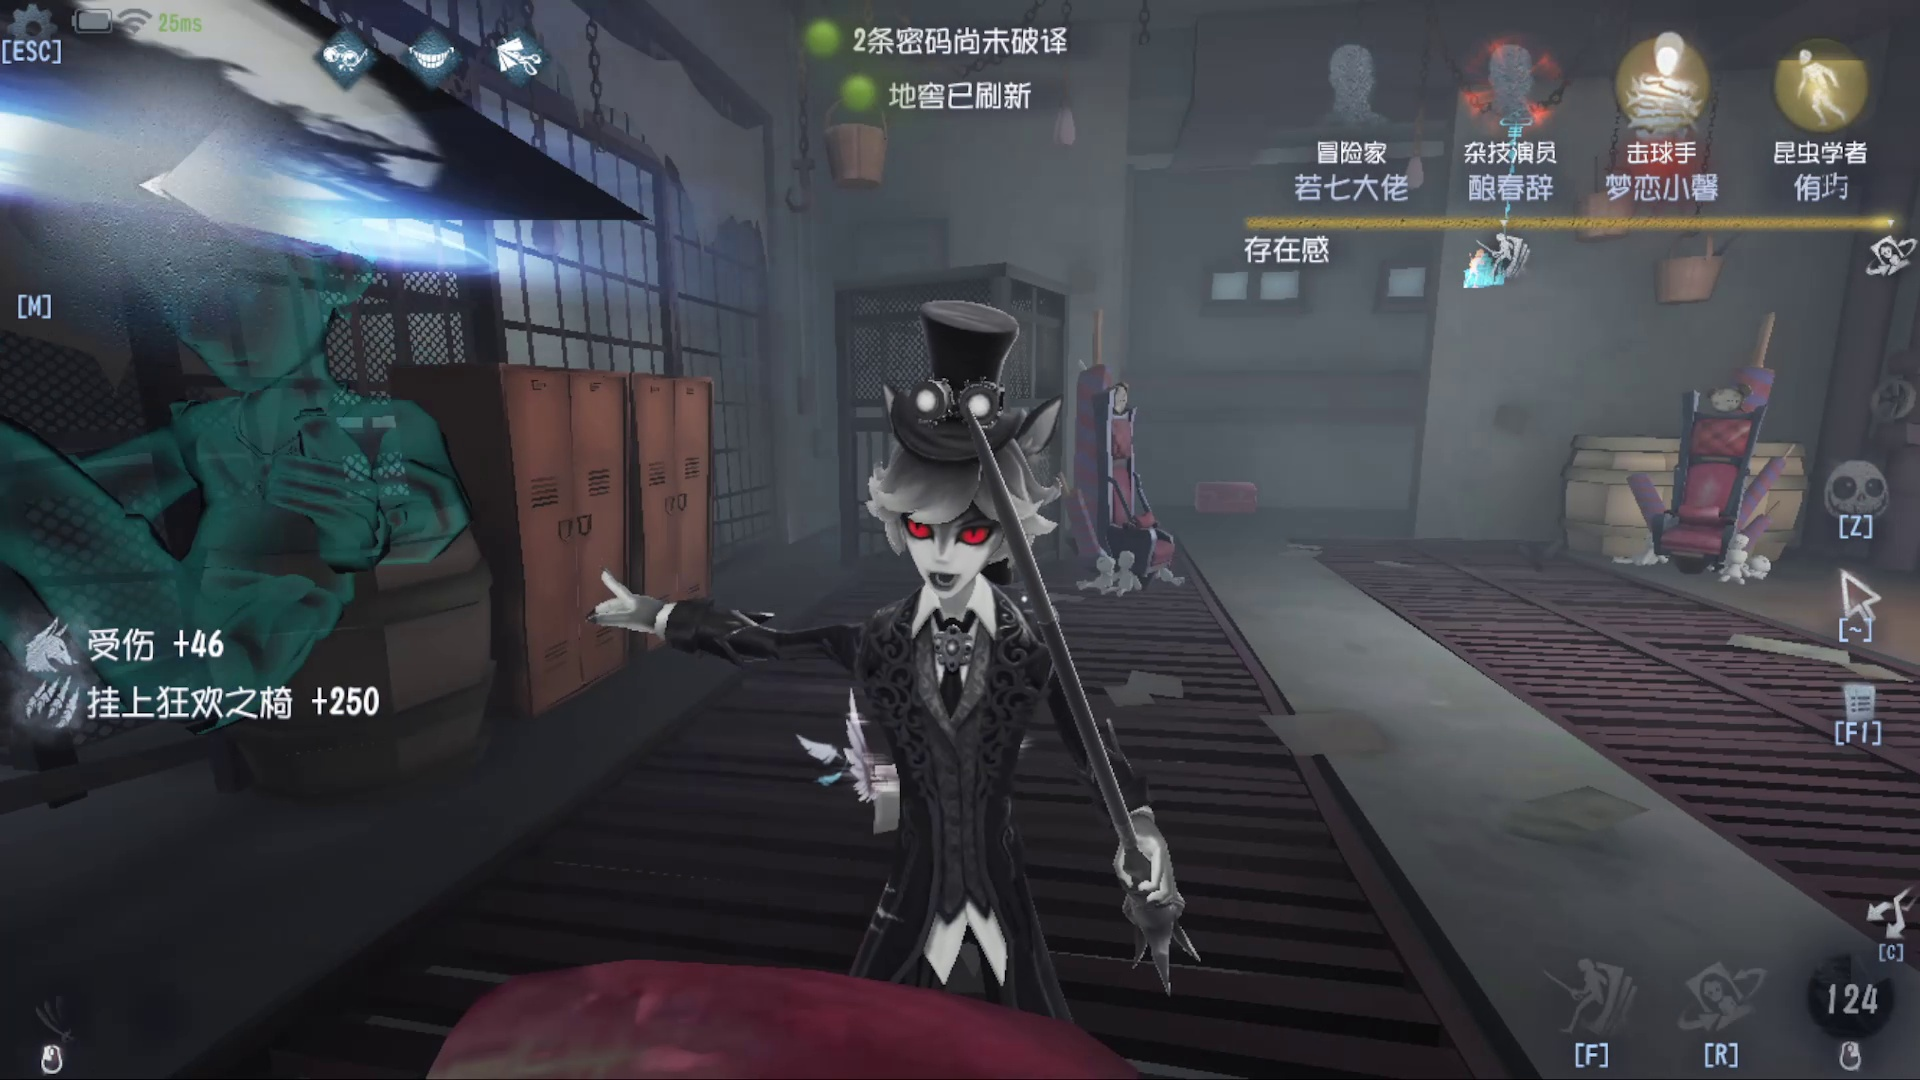狂欢之椅: (1627, 334, 1795, 620), (1062, 330, 1208, 597)
